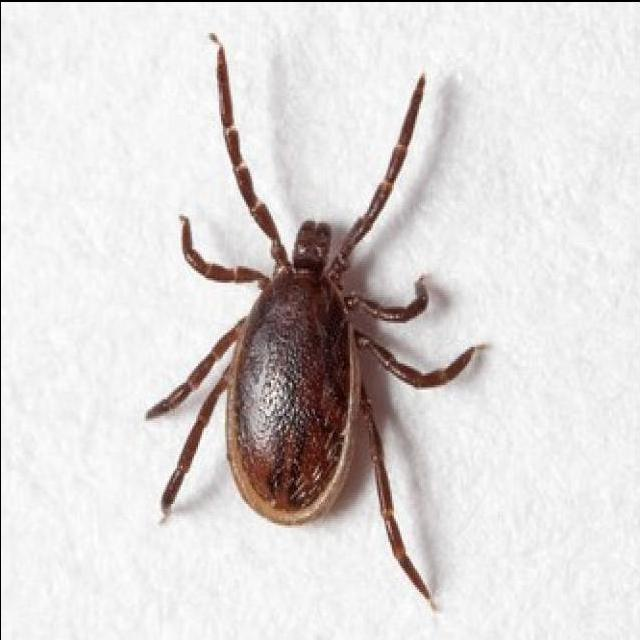Ixodes Ricinus-M: (144, 33, 482, 602)
